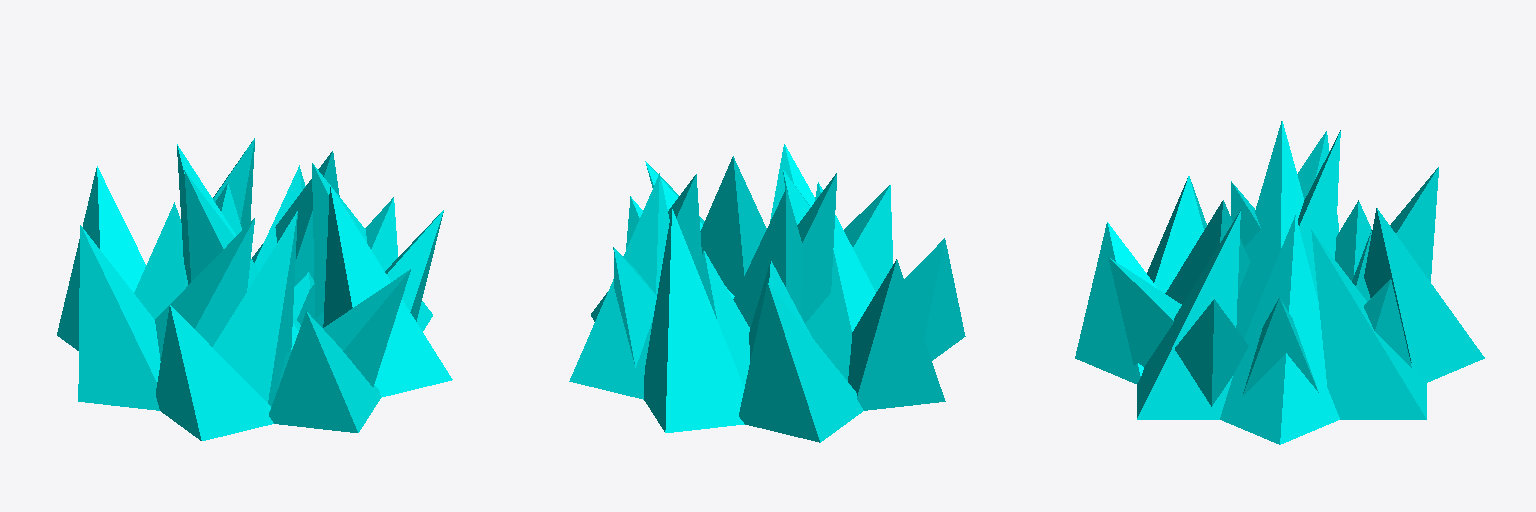
3 views of the same model, side by side, from view 1: azimuth 30°, elevation 25°; view 2: azimuth 150°, elevation 25°; view 3: azimuth 270°, elevation 25° (orthographic).
Visible parts, largest first — view 1: Cube; view 2: Cube; view 3: Cube.
Boxes of the visible parts, <box> form: Cube: <box>57,138,452,440</box>; Cube: <box>569,144,965,442</box>; Cube: <box>1075,121,1484,444</box>.
Size of the model in its own units: 4.23 by 2.33 by 4.23.
1 materials, 1 textured.